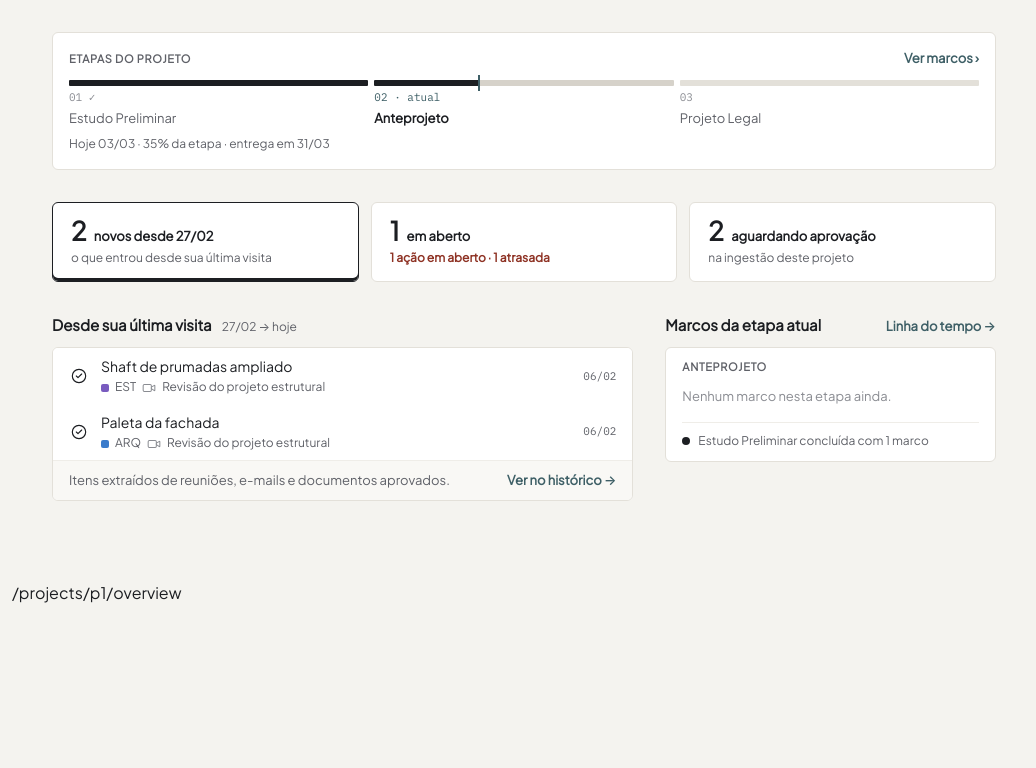
Test: Phase 3g · mobile › Visão geral › shows the stage card and "em aberto" opens Histórico filtered to Ações
Expected: the heading "Etapas do projeto" is shown, top-left (69, 52), bottom-right (191, 66)
Expected: the text "Hoje 03/03 · 35% da etapa · entrega em 31/03" is shown, top-left (69, 136), bottom-right (330, 151)
Click the tab "1 em aberto 1 ação em aberto · 1 atrasada": click(438, 236) top-left (371, 202), bottom-right (677, 282)
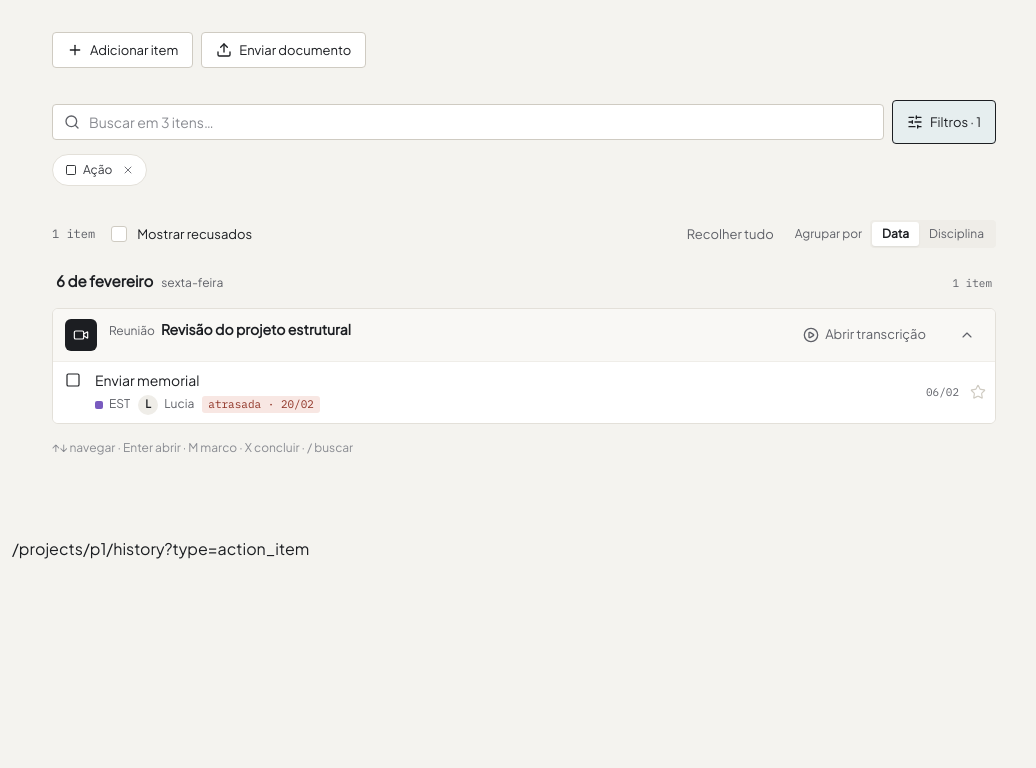
Now the text with test id "where" reads "/projects/p1/history?type=action_item", box top-left (12, 538), bottom-right (309, 559)
